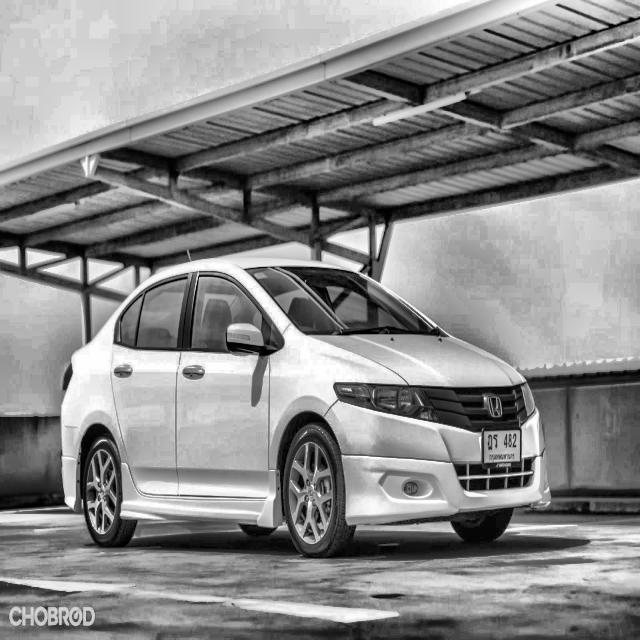license-plate: (476, 420, 524, 475)
